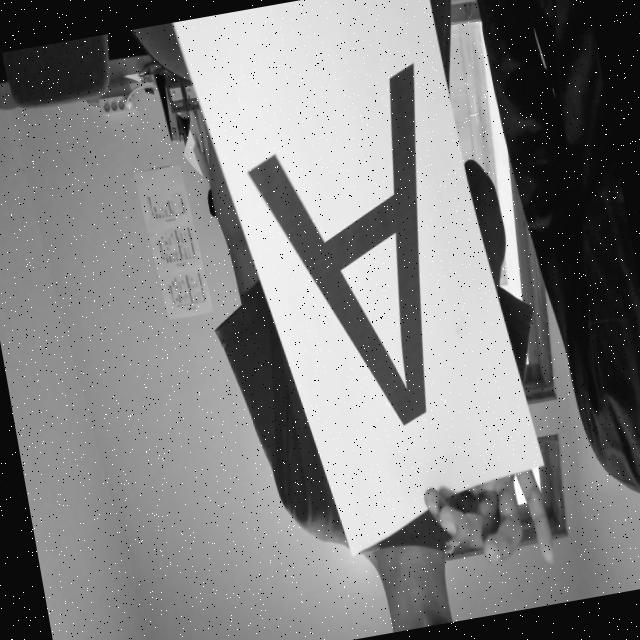a: (204, 19, 492, 472)
